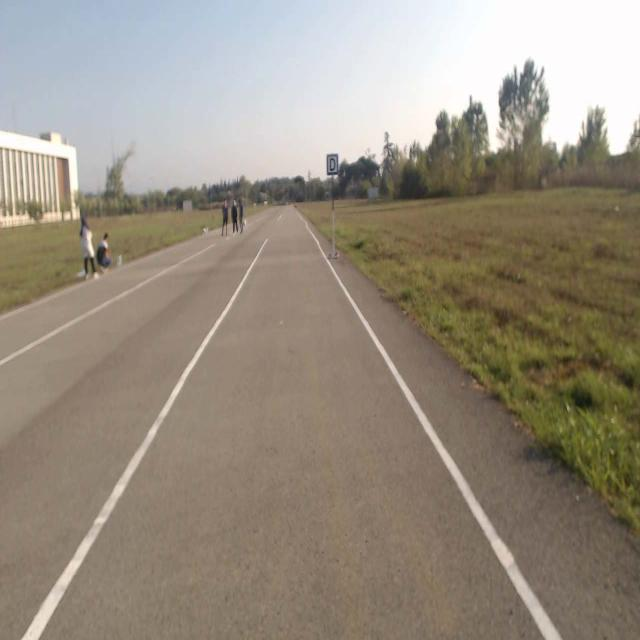durak: (326, 154, 338, 175)
